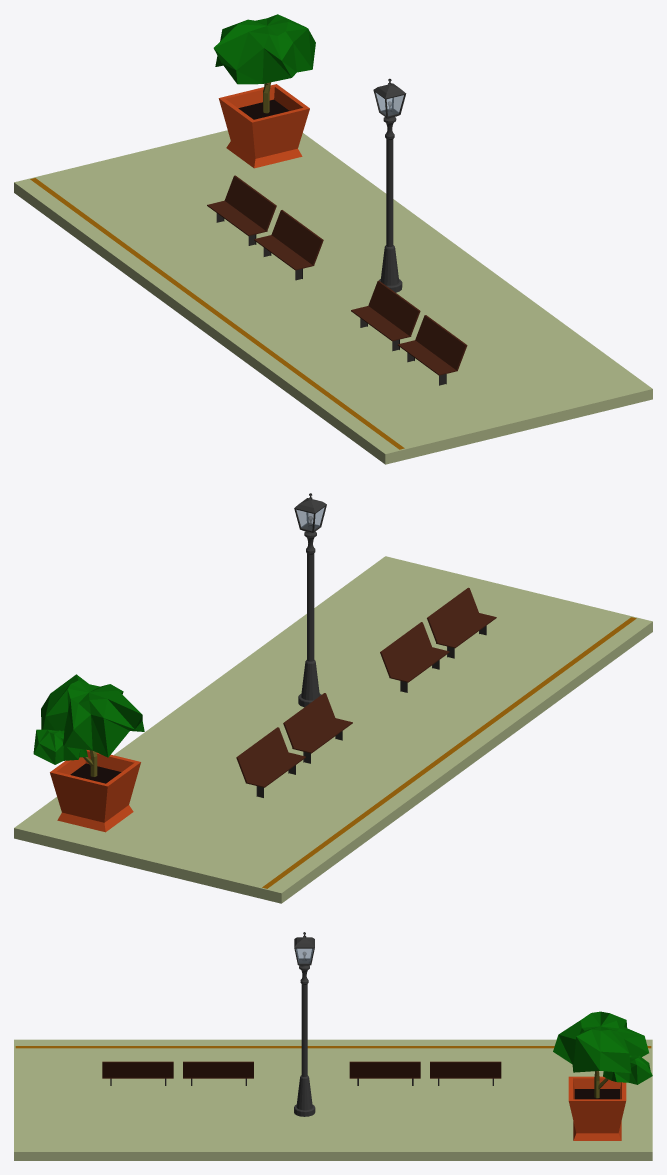
The model's file is platform.obj.
The picture shows the model from 3 angles, top to bottom: view 1: azimuth 30°, elevation 25°; view 2: azimuth 150°, elevation 25°; view 3: azimuth 270°, elevation 25°; orthographic projection. The views are drawn at different scales.
Visible parts, largest first — view 1: Cube_Cube.001, leaves.001, Cube.004_Cube.009, Cube.003_Cube.000, Cube.001_Cube.010, Cube.001_Cube.000, Cube.003_Cube.006, Plane, post, cage; view 2: Cube_Cube.001, leaves.001, Cube.004_Cube.009, Cube.003_Cube.006, Cube.003_Cube.000, Cube.001_Cube.010, Cube.001_Cube.000, Plane, post, cage; view 3: Cube_Cube.001, leaves.001, Cube.004_Cube.009, Plane, post, Cube.001_Cube.010, Cube.001_Cube.000, Cube.003_Cube.000, Cube.003_Cube.006, cage.
Part boxes in pixels (x1,y1,x2,y2): Cube_Cube.001: (14,130,652,464); leaves.001: (213,14,315,84); Cube.004_Cube.009: (218,84,309,168); Cube.003_Cube.000: (207,175,276,245); Cube.001_Cube.010: (397,315,467,385); Cube.001_Cube.000: (254,210,323,280); Cube.003_Cube.006: (351,280,420,351); Plane: (30,178,404,449); post: (378,78,402,292); cage: (373,83,406,118); Cube_Cube.001: (14,556,652,903); leaves.001: (33,674,144,764); Cube.004_Cube.009: (50,750,140,832); Cube.003_Cube.006: (380,622,449,692); Cube.003_Cube.000: (236,727,305,797); Cube.001_Cube.010: (427,587,496,658); Cube.001_Cube.000: (283,693,352,763); Plane: (262,617,636,888); post: (298,493,321,707); cage: (294,498,326,532); Cube_Cube.001: (14,1039,652,1160); leaves.001: (553,1011,652,1084); Cube.004_Cube.009: (568,1076,626,1140); Plane: (15,1046,651,1048); post: (294,932,315,1116); Cube.001_Cube.010: (102,1061,173,1085); Cube.001_Cube.000: (349,1061,420,1085); Cube.003_Cube.000: (430,1061,501,1085); Cube.003_Cube.006: (183,1061,253,1085); cage: (294,937,314,965).
Bounding box in the file's own units: 17.84 × 13.82 × 42.33.
